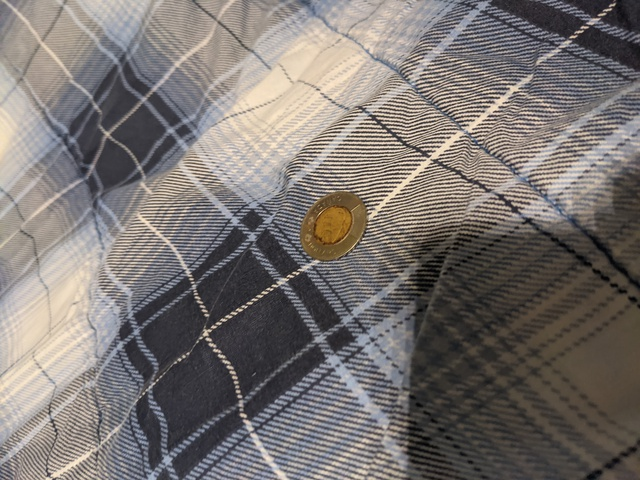twonie: (288, 186, 372, 262)
